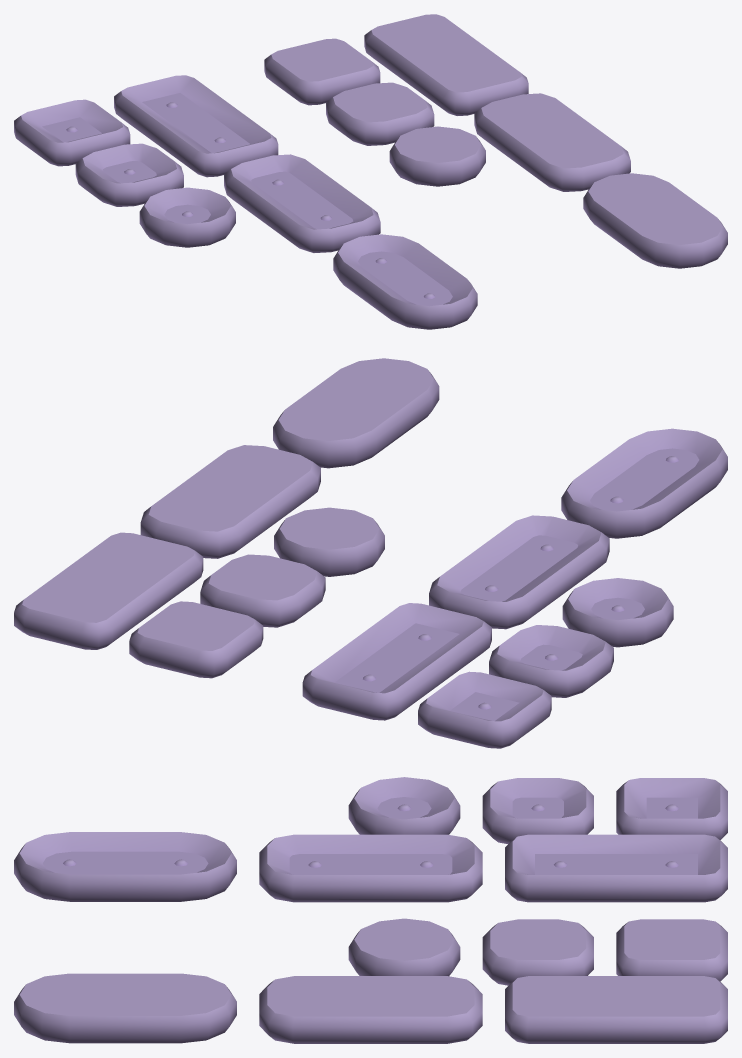
File: studio-cushions.glb
3 views of the same model, one above another, from view 1: azimuth 30°, elevation 25°; view 2: azimuth 150°, elevation 25°; view 3: azimuth 270°, elevation 25° (orthographic). The views are drawn at different scales.
Parts seen in each view (by area): view 1: cushion-indent-square-rounded-wide, cushion-square-rounded-wide, cushion-rounded-wide, cushion-indent-rounded-wide, cushion-round-wide, cushion-indent-round-wide, cushion-square-rounded, cushion-indent-square-rounded, cushion-indent-rounded (%thumbnail), cushion-rounded (%thumbnail), cushion-round, cushion-indent-round; view 2: cushion-square-rounded-wide, cushion-indent-square-rounded-wide, cushion-indent-rounded-wide, cushion-rounded-wide, cushion-round-wide, cushion-indent-round-wide, cushion-square-rounded, cushion-indent-square-rounded, cushion-rounded (%thumbnail), cushion-indent-rounded (%thumbnail), cushion-indent-round, cushion-round; view 3: cushion-indent-square-rounded-wide, cushion-square-rounded-wide, cushion-indent-rounded-wide, cushion-rounded-wide, cushion-round-wide, cushion-indent-round-wide, cushion-indent-square-rounded, cushion-square-rounded, cushion-rounded (%thumbnail), cushion-indent-rounded (%thumbnail), cushion-indent-round, cushion-round.
Part boxes in pixels (x1,y1,x2,y2): cushion-indent-square-rounded-wide: (114, 75, 278, 177); cushion-square-rounded-wide: (364, 14, 528, 115); cushion-rounded-wide: (474, 93, 630, 191); cushion-indent-rounded-wide: (224, 154, 380, 252); cushion-round-wide: (583, 173, 727, 268); cushion-indent-round-wide: (333, 234, 477, 329); cushion-square-rounded: (264, 38, 380, 105); cushion-indent-square-rounded: (14, 99, 130, 166); cushion-indent-rounded (%thumbnail): (75, 143, 183, 206); cushion-rounded (%thumbnail): (326, 82, 434, 145); cushion-round: (389, 126, 485, 186); cushion-indent-round: (139, 187, 235, 247); cushion-square-rounded-wide: (14, 532, 203, 649); cushion-indent-square-rounded-wide: (302, 603, 491, 720); cushion-indent-rounded-wide: (429, 515, 609, 629); cushion-rounded-wide: (140, 445, 320, 558); cushion-round-wide: (273, 358, 439, 468); cushion-indent-round-wide: (561, 428, 727, 538); cushion-square-rounded: (129, 601, 263, 678); cushion-indent-square-rounded: (418, 671, 551, 748); cushion-rounded (%thumbnail): (200, 554, 325, 627); cushion-indent-rounded (%thumbnail): (489, 625, 613, 697); cushion-indent-round: (562, 578, 673, 647); cushion-round: (274, 507, 384, 576); cushion-indent-square-rounded-wide: (505, 834, 727, 902); cushion-square-rounded-wide: (505, 976, 727, 1043); cushion-indent-rounded-wide: (259, 834, 482, 902); cushion-rounded-wide: (259, 976, 482, 1043); cushion-round-wide: (14, 973, 236, 1043); cushion-indent-round-wide: (14, 832, 236, 901); cushion-indent-square-rounded: (616, 778, 727, 839); cushion-square-rounded: (616, 919, 727, 981); cushion-rounded (%thumbnail): (482, 919, 593, 985); cushion-indent-rounded (%thumbnail): (482, 778, 593, 843); cushion-indent-round: (348, 777, 460, 834); cushion-round: (348, 918, 460, 976).
Size of the model in its own units: 2.6 by 0.1352 by 3.2.
